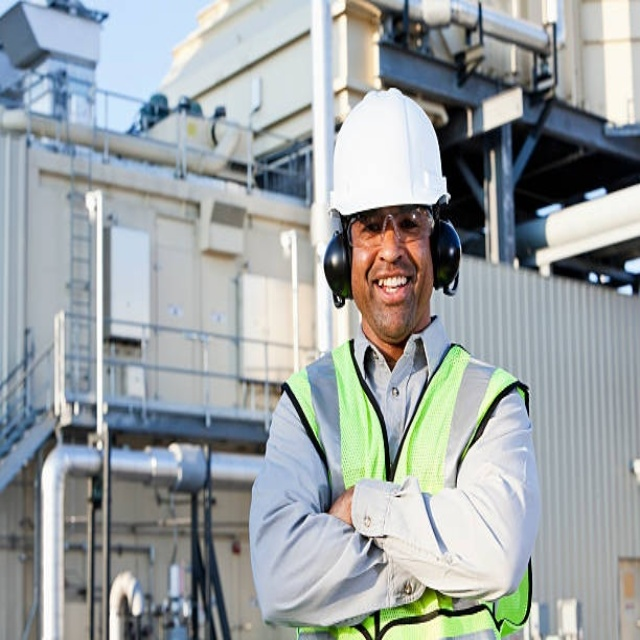Gafas: (348, 206, 438, 247)
Sin_mascara: (366, 265, 413, 318)
